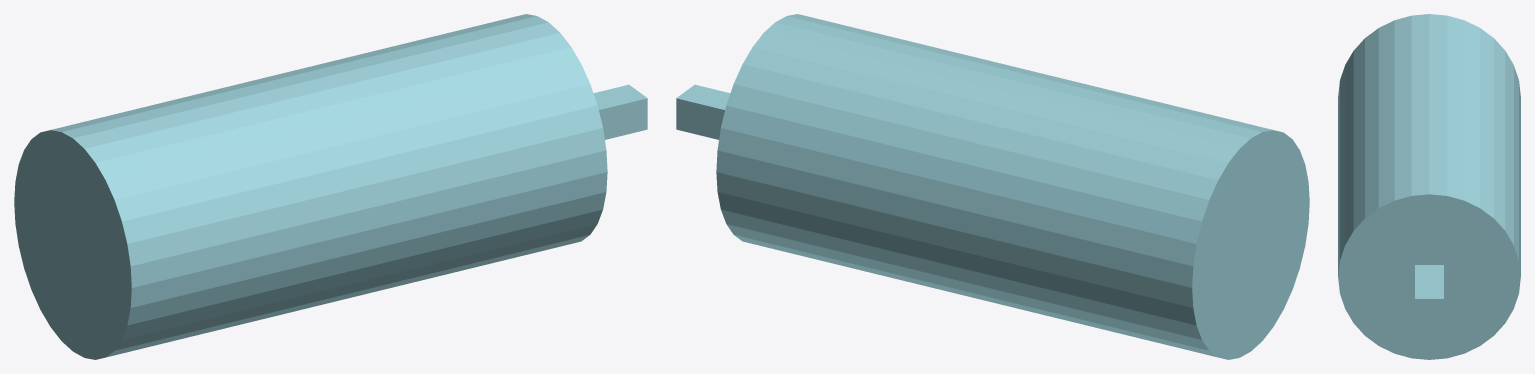
File: cylinder_marker_v4011.obj
The picture shows the model from 3 angles, left to right: view 1: azimuth 30°, elevation 25°; view 2: azimuth 150°, elevation 25°; view 3: azimuth 270°, elevation 25°; orthographic projection. The views are drawn at different scales.
Size of the model in its own units: 0.1605 by 0.0578 by 0.0578.
1 material, 1 textured.
